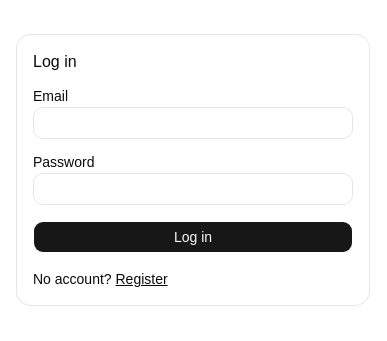
it: auth flow › shows the server message on bad credentials (401) without clearing anything
Type "a@b.com" into the field labelled "Email" at (193, 123), box [33,107,353,139]
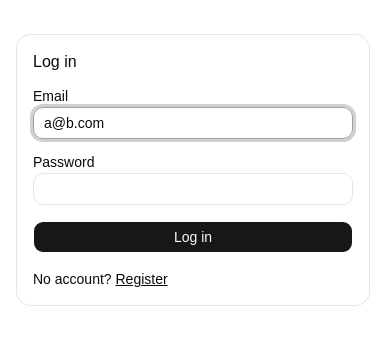
Type "password1" into the password field labelled "Password" at (193, 189), box [33,173,353,205]
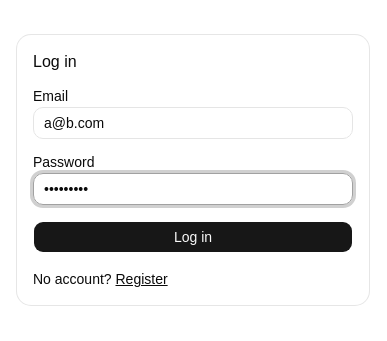
Click the button "Log in" at (193, 237), box [33,221,353,253]
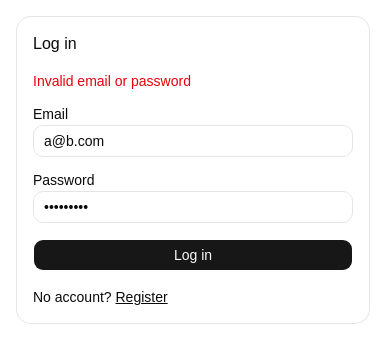
Now the message reads "Invalid email or password", box [33,73,191,89]
